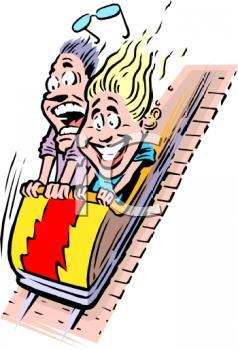person: (68, 39, 155, 206), (15, 36, 91, 202)
